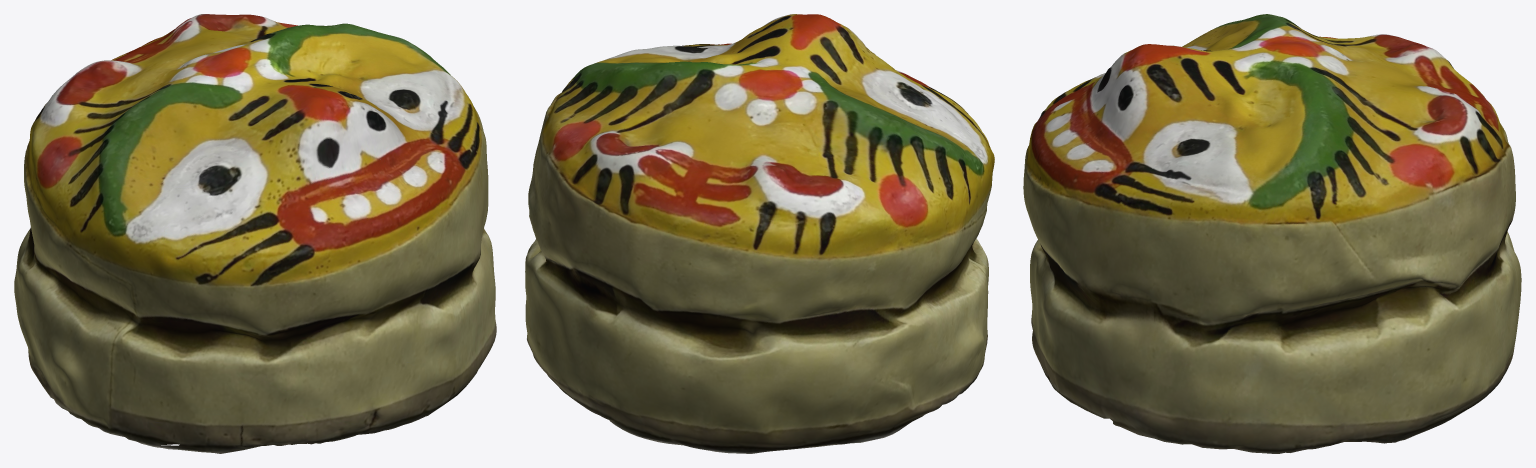
3 renders of one model, left to right at view 1: azimuth 30°, elevation 25°; view 2: azimuth 150°, elevation 25°; view 3: azimuth 270°, elevation 25°, orthographic. The views are drawn at different scales.
Size of the model in its own units: 0.3973 by 0.288 by 0.3966.
Materials: 1 (1 with a texture image).
